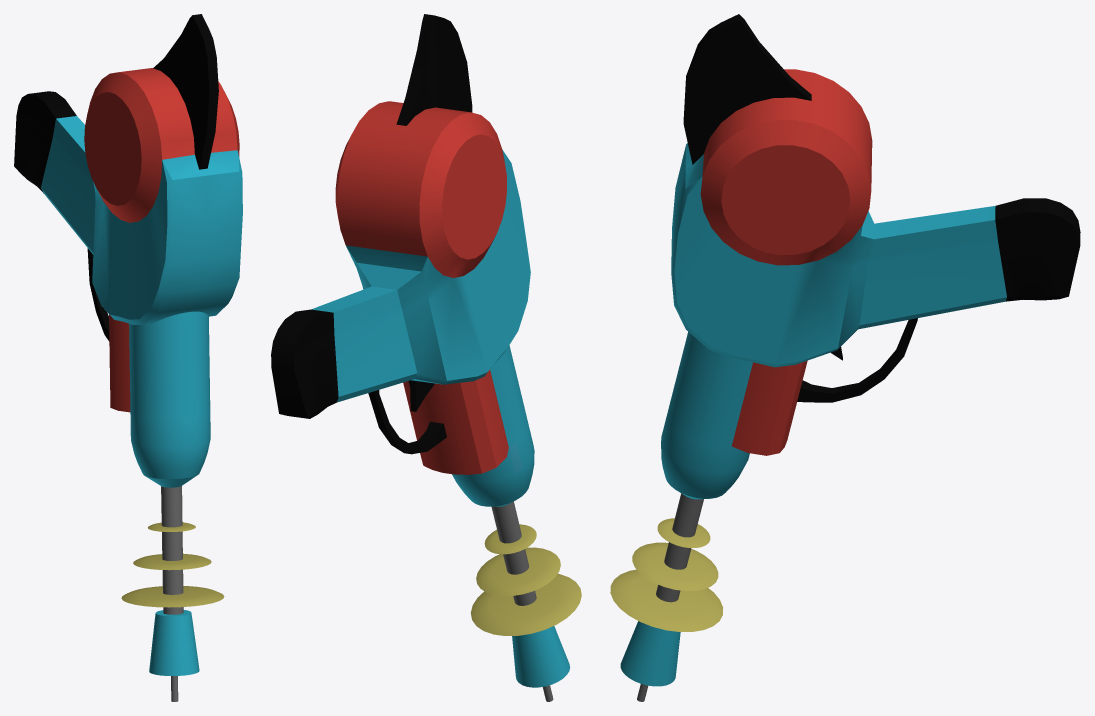
File: raygun.fbx
3 renders of one model, left to right at view 1: azimuth 30°, elevation 25°; view 2: azimuth 150°, elevation 25°; view 3: azimuth 270°, elevation 25°, orthographic. The views are drawn at different scales.
Visible parts, largest first — view 1: Alien01.001; view 2: Alien01.001; view 3: Alien01.001.
Boxes of the visible parts, x1=… form: Alien01.001: x1=14, y1=14, x2=242, y2=701; Alien01.001: x1=271, y1=14, x2=581, y2=701; Alien01.001: x1=610, y1=14, x2=1080, y2=701.
Size of the model in its own units: 34.17 by 149 by 87.85.
